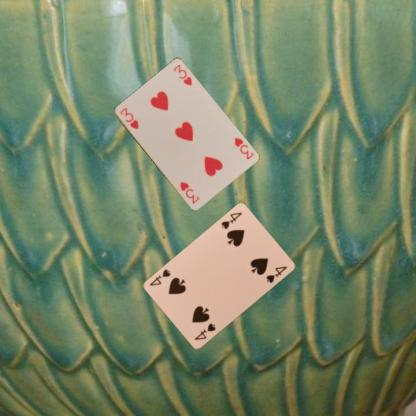3h: (117, 105, 140, 131), (232, 135, 254, 161)
4s: (192, 320, 217, 341), (219, 210, 244, 230)
